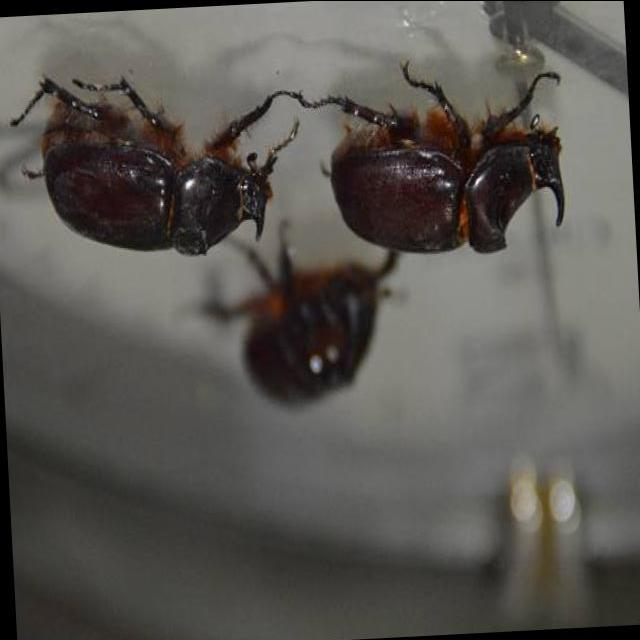Rhino-beetle: (18, 36, 282, 275), (317, 80, 585, 270), (223, 290, 393, 419)
